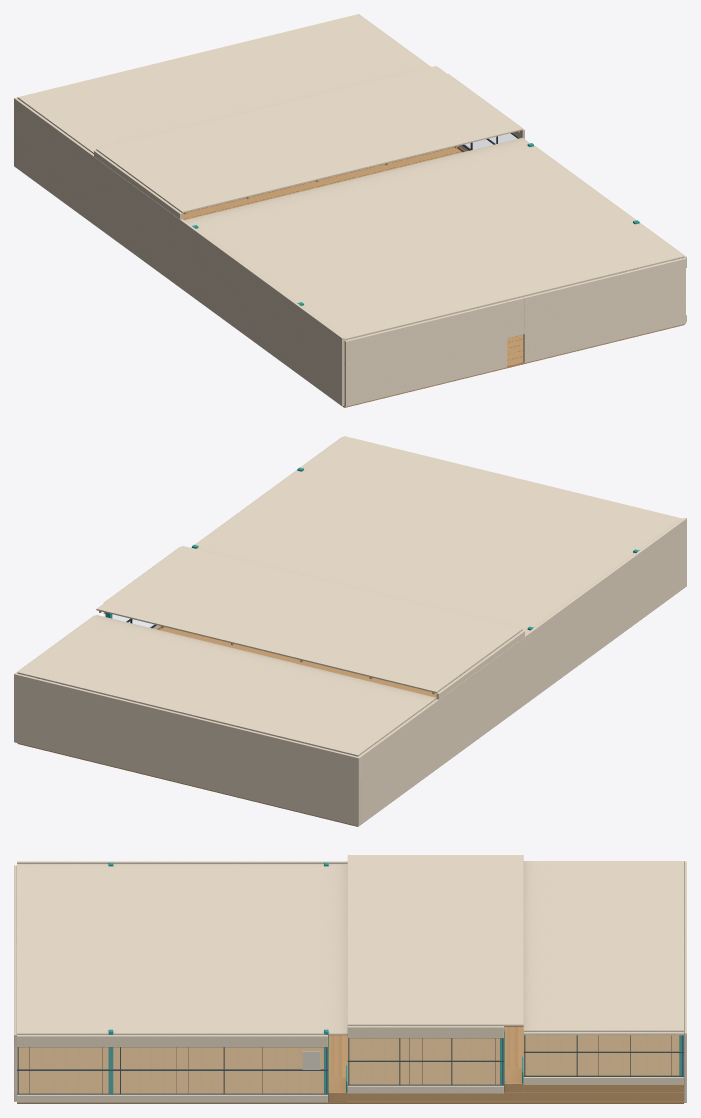
Rendered from Lounge_Architecture.fbx.
3 views of the same model, one above another, from view 1: azimuth 30°, elevation 25°; view 2: azimuth 150°, elevation 25°; view 3: azimuth 270°, elevation 25° (orthographic). The views are drawn at different scales.
Visible parts, largest first — view 1: Ceiling_0, Ceiling_1, Ceiling_2, Wall_Left, FrontPier, FrontPier.001, Floor_Middle, Floor_Main, Wall_Left_Middle_Upper, Door_Lintel; view 2: Ceiling_0, Ceiling_1, Ceiling_2, Wall_Back, Wall_Left, Floor_Middle, Wall_Left_Middle_Upper; view 3: Ceiling_0, Ceiling_1, Glass_Windows, Ceiling_2, Floor_Main, Floor_Middle, Floor_Mezzanine, Window_Header_0, Window_SillWall_0, Window_Header_1, Window_Frames_0, Window_SillWall_1 (+9 smaller).
Boxes of the visible parts, x1=… form: Ceiling_0: x1=184, y1=137, x2=684, y2=340; Ceiling_1: x1=96, y1=66, x2=522, y2=213; Ceiling_2: x1=17, y1=14, x2=429, y2=153; Wall_Left: x1=15, y1=98, x2=344, y2=406; FrontPier: x1=344, y1=301, x2=507, y2=406; FrontPier.001: x1=523, y1=257, x2=685, y2=362; Floor_Middle: x1=182, y1=147, x2=461, y2=220; Floor_Main: x1=342, y1=275, x2=684, y2=407; Wall_Left_Middle_Upper: x1=94, y1=150, x2=182, y2=219; Door_Lintel: x1=506, y1=297, x2=524, y2=338; Ceiling_0: x1=192, y1=436, x2=682, y2=635; Ceiling_1: x1=96, y1=546, x2=522, y2=693; Ceiling_2: x1=17, y1=615, x2=436, y2=756; Wall_Back: x1=14, y1=673, x2=360, y2=826; Wall_Left: x1=358, y1=517, x2=686, y2=824; Floor_Middle: x1=159, y1=627, x2=445, y2=728; Wall_Left_Middle_Upper: x1=436, y1=630, x2=524, y2=699; Ceiling_0: x1=17, y1=864, x2=347, y2=1034; Ceiling_1: x1=347, y1=855, x2=523, y2=1025; Glass_Windows: x1=17, y1=1035, x2=683, y2=1094; Ceiling_2: x1=523, y1=861, x2=683, y2=1031; Floor_Main: x1=17, y1=1047, x2=683, y2=1103; Floor_Middle: x1=347, y1=1038, x2=683, y2=1101; Floor_Mezzanine: x1=523, y1=1035, x2=683, y2=1092; Window_Header_0: x1=17, y1=1035, x2=327, y2=1047; Window_SillWall_0: x1=17, y1=1094, x2=327, y2=1102; Window_Header_1: x1=347, y1=1026, x2=503, y2=1038; Window_Frames_0: x1=17, y1=1047, x2=327, y2=1094; Window_SillWall_1: x1=347, y1=1085, x2=503, y2=1093.
Size of the model in its own units: 99.4 by 21.36 by 164.
4 materials, 3 textured.
